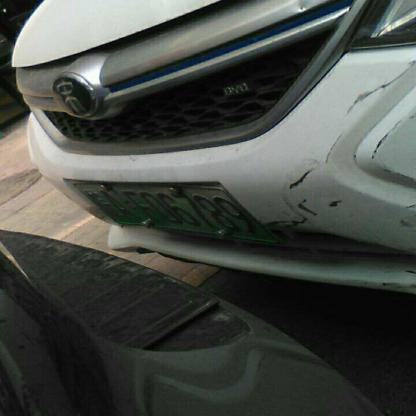lp: (74, 181, 278, 242)
